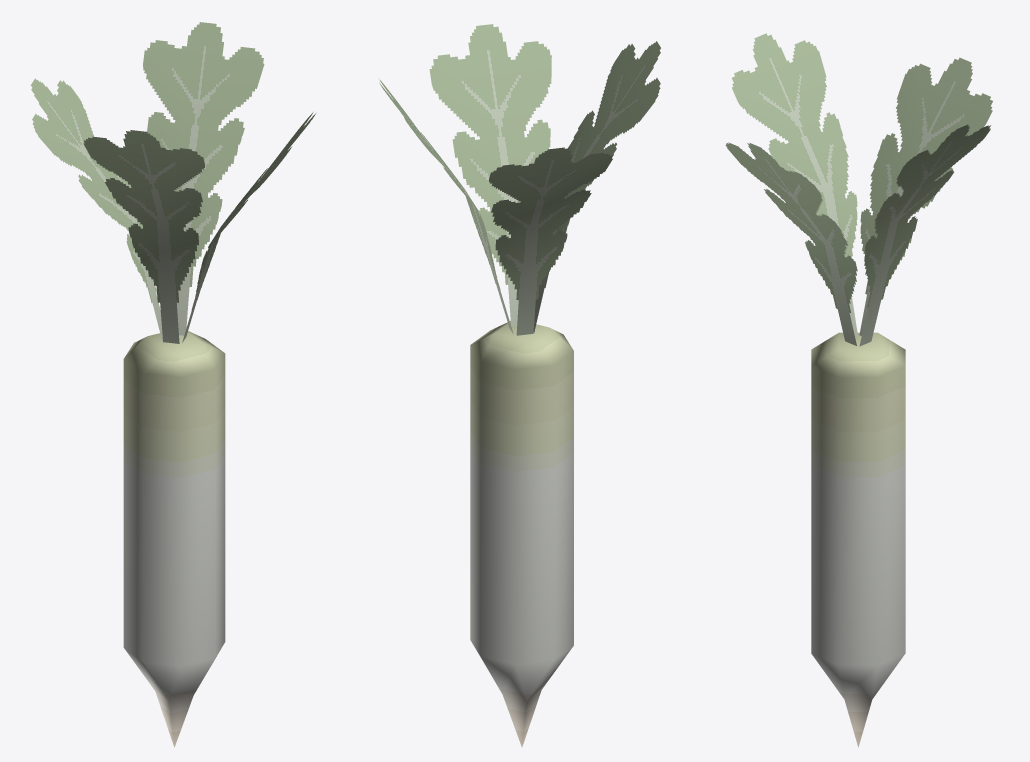
The model's file is 00a0_Daikon_Radish.glb.
3 views of the same model, side by side, from view 1: azimuth 30°, elevation 25°; view 2: azimuth 150°, elevation 25°; view 3: azimuth 270°, elevation 25° (orthographic). The views are drawn at different scales.
Visible parts, largest first — view 1: part_0; view 2: part_0; view 3: part_0.
Part boxes in pixels (left/top/right/bottom): part_0: left=30, top=22, right=315, bottom=747; part_0: left=379, top=24, right=660, bottom=747; part_0: left=725, top=33, right=992, bottom=747.
Bounding box in the file's own units: 0.2664 × 0.6544 × 0.2734.
Materials: 1 (1 with a texture image).
